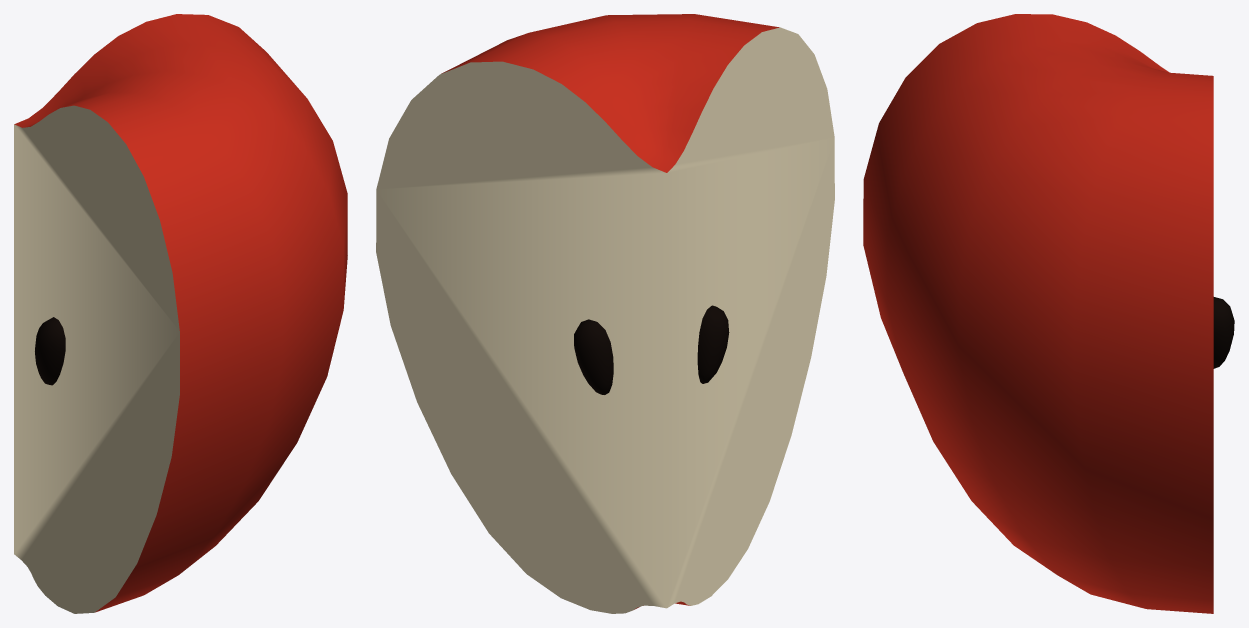
The model's file is appleQuarter.fbx.
3 views of the same model, side by side, from view 1: azimuth 30°, elevation 25°; view 2: azimuth 150°, elevation 25°; view 3: azimuth 270°, elevation 25° (orthographic). The views are drawn at different scales.
Parts seen in each view (by area): view 1: Cube; view 2: Cube; view 3: Cube.
Boxes of the visible parts, box(x1,y1,x2,y2) form: Cube: box(14, 14, 347, 613); Cube: box(376, 14, 834, 613); Cube: box(863, 14, 1234, 613).
Size of the model in its own units: 120 by 197 by 120.
